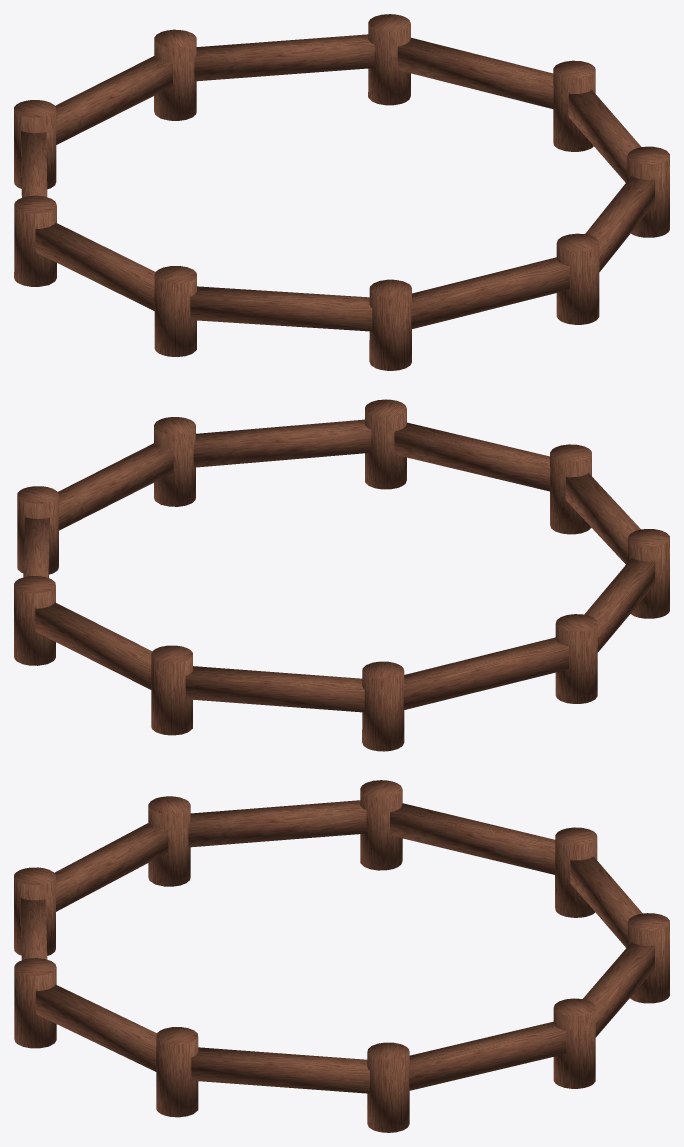
Rendered from fence.fbx.
3 renders of one model, top to bottom at view 1: azimuth 30°, elevation 25°; view 2: azimuth 150°, elevation 25°; view 3: azimuth 270°, elevation 25°, orthographic.
Visible parts, largest first — view 1: Fence.019, Fence.023, Fence.018, Fence.015, Fence.020, Fence.014, Fence.016, Fence.017, Fence.022; view 2: Fence.014, Fence.022, Fence.017, Fence.018, Fence.023, Fence.016, Fence.019, Fence.020, Fence.015; view 3: Fence.016, Fence.020, Fence.022, Fence.015, Fence.017, Fence.019, Fence.023, Fence.014, Fence.018.
Boxes of the visible parts, <box> form: Fence.019: <box>190,279,411,370</box>; Fence.023: <box>154,29,374,120</box>; Fence.018: <box>411,233,599,329</box>; Fence.015: <box>368,14,553,109</box>; Fence.020: <box>35,223,196,356</box>; Fence.014: <box>14,56,172,189</box>; Fence.016: <box>553,60,641,182</box>; Fence.017: <box>585,146,669,271</box>; Fence.022: <box>14,131,56,286</box>; Fence.014: <box>185,661,404,751</box>; Fence.022: <box>403,614,597,710</box>; Fence.017: <box>154,417,371,506</box>; Fence.018: <box>365,399,550,491</box>; Fence.023: <box>35,602,192,735</box>; Fence.016: <box>17,443,173,574</box>; Fence.019: <box>550,444,640,564</box>; Fence.020: <box>584,529,669,652</box>; Fence.015: <box>14,517,55,665</box>; Fence.016: <box>191,1042,409,1132</box>; Fence.020: <box>148,796,366,886</box>; Fence.022: <box>360,780,555,874</box>; Fence.015: <box>409,998,595,1090</box>; Fence.017: <box>36,984,198,1117</box>; Fence.019: <box>14,822,168,955</box>; Fence.023: <box>583,913,669,1037</box>; Fence.014: <box>555,827,642,947</box>; Fence.018: <box>14,898,56,1048</box>.
Bounding box in the file's own units: 946 × 114 × 936.
